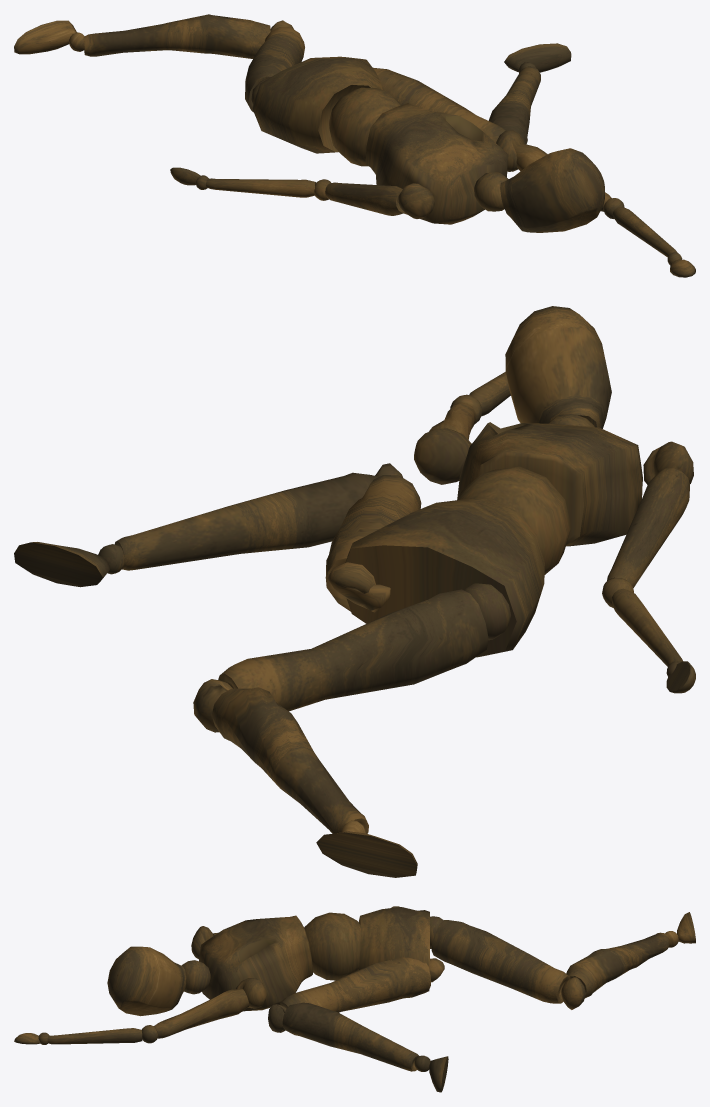
The model's file is maniqui_pose5.fbx.
3 renders of one model, top to bottom at view 1: azimuth 30°, elevation 25°; view 2: azimuth 150°, elevation 25°; view 3: azimuth 270°, elevation 25°, orthographic. The views are drawn at different scales.
Visible parts, largest first — view 1: dummy_obj.003; view 2: dummy_obj.003; view 3: dummy_obj.003.
Boxes of the visible parts, box(x1,y1,x2,y2) form: dummy_obj.003: box(14, 14, 695, 277); dummy_obj.003: box(14, 306, 695, 877); dummy_obj.003: box(14, 906, 695, 1092).
Bounding box in the file's own units: 99.93 × 19.96 × 163.
